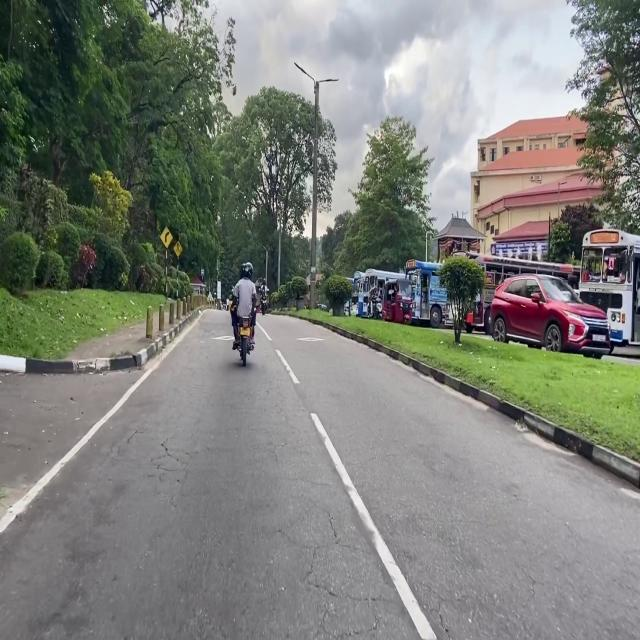bus: (443, 251, 580, 335), (579, 228, 640, 351), (405, 260, 452, 328), (363, 268, 405, 315), (352, 271, 365, 316)
car: (491, 274, 610, 357)
motorcycle: (239, 317, 253, 366), (368, 297, 382, 319), (261, 293, 267, 315)
person: (231, 263, 256, 350), (367, 286, 378, 318), (259, 278, 268, 303)
three wheeler: (382, 279, 411, 324)
